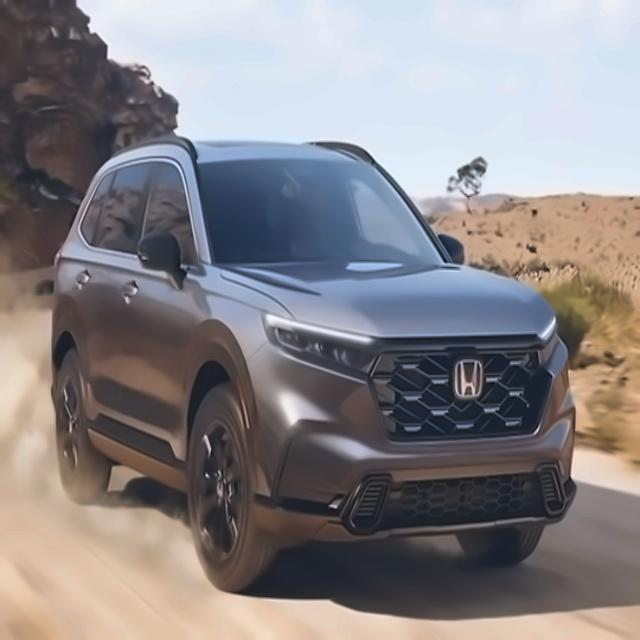Car hood: (206, 261, 570, 345)
Driver-s door - -F-R-: (113, 127, 197, 519)
Fender - -F-R-: (171, 245, 279, 411)
Fender - -R-R-: (47, 218, 85, 377)
Front bumper: (219, 345, 578, 549)
Headlight - -R-: (257, 310, 378, 386)
Passenger-s door - -R-R-: (74, 135, 156, 472)
Side bumper - -R-: (79, 406, 187, 529)
Side mirror - -L-: (535, 317, 565, 367), (431, 229, 466, 267)
Side mirror - -R-: (139, 232, 190, 288)
